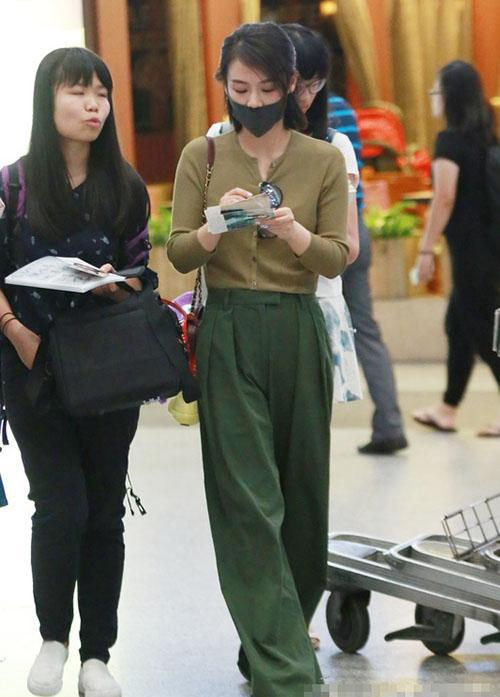NONE: (58, 81, 112, 141), (282, 70, 326, 118)
WRONG: (228, 72, 294, 138)
